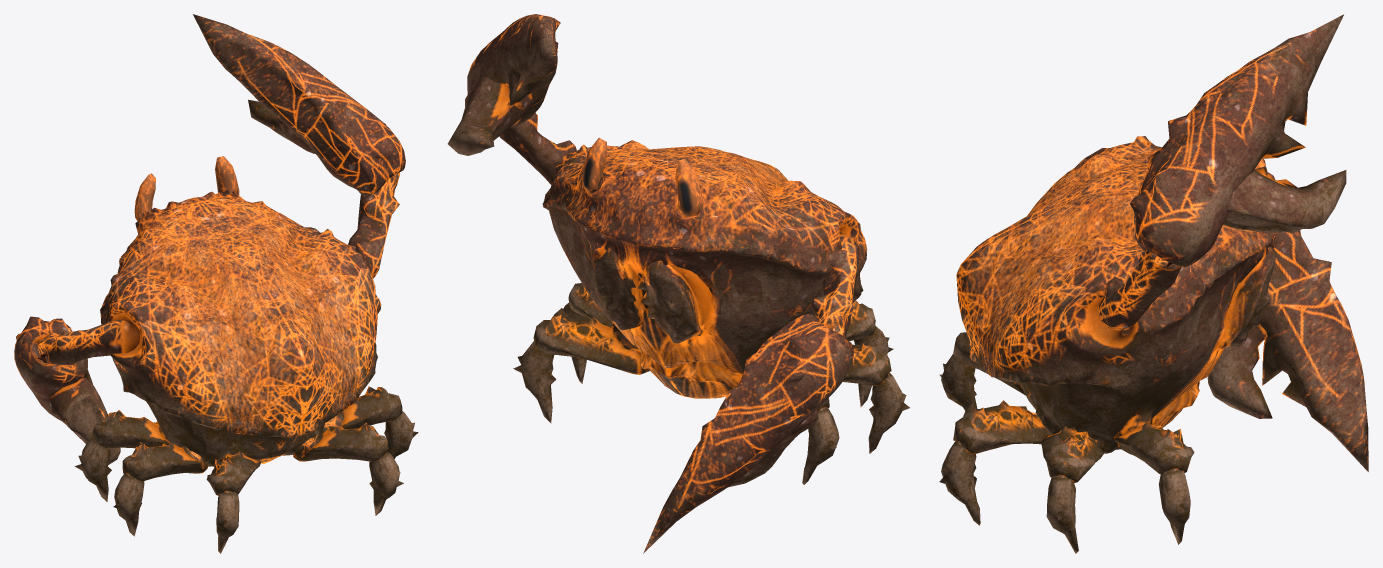
File: final_form_crab.glb
3 views of the same model, side by side, from view 1: azimuth 30°, elevation 25°; view 2: azimuth 150°, elevation 25°; view 3: azimuth 270°, elevation 25° (orthographic). The views are drawn at different scales.
Parts seen in each view (by area): view 1: crablow_Material #2_0; view 2: crablow_Material #2_0; view 3: crablow_Material #2_0.
Part boxes in pixels (x1,y1,x2,y2): crablow_Material #2_0: (14, 14, 418, 553); crablow_Material #2_0: (447, 14, 909, 553); crablow_Material #2_0: (939, 14, 1368, 553).
Size of the model in its own units: 602 by 683 by 518.
1 material, 1 textured.
